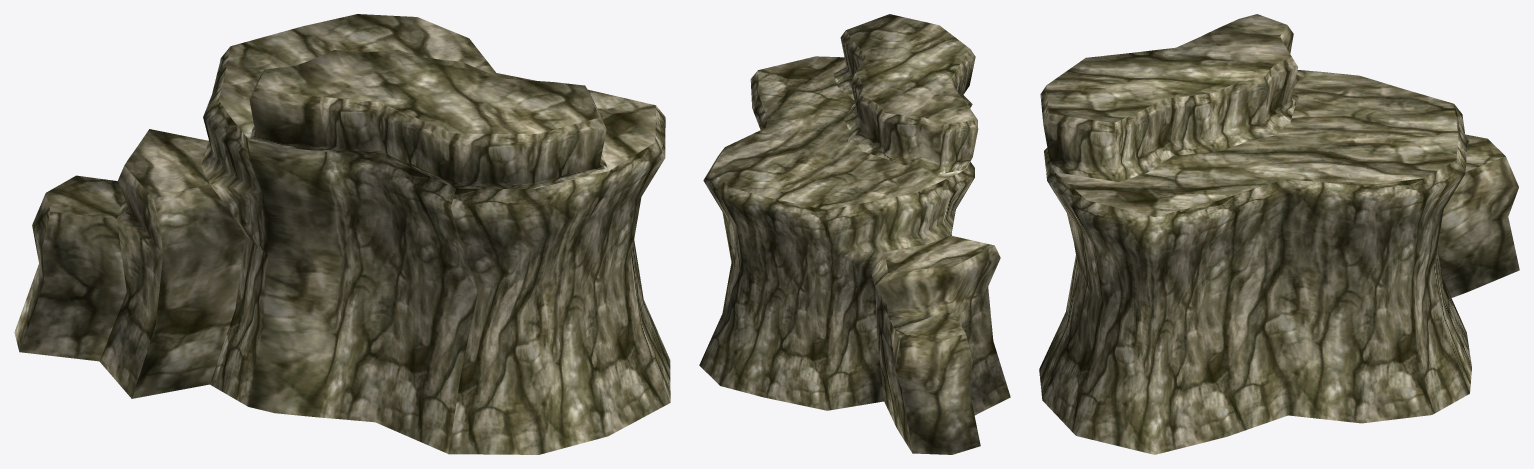
File: CB_NEWPLAYSURFACE_CB_PLAYSURFACE02.fbx
The picture shows the model from 3 angles, left to right: view 1: azimuth 30°, elevation 25°; view 2: azimuth 150°, elevation 25°; view 3: azimuth 270°, elevation 25°; orthographic projection. The views are drawn at different scales.
Visible parts, largest first — view 1: CB_NEWPLAYSURFACE_CB_PLAYSURFACE02; view 2: CB_NEWPLAYSURFACE_CB_PLAYSURFACE02; view 3: CB_NEWPLAYSURFACE_CB_PLAYSURFACE02.
Boxes of the visible parts, box(x1,y1,x2,y2) form: CB_NEWPLAYSURFACE_CB_PLAYSURFACE02: box(14, 14, 670, 454); CB_NEWPLAYSURFACE_CB_PLAYSURFACE02: box(699, 14, 1010, 454); CB_NEWPLAYSURFACE_CB_PLAYSURFACE02: box(1039, 14, 1519, 454).
Size of the model in its own units: 133312 by 84294 by 128892.
Materials: 2 (2 with a texture image).
